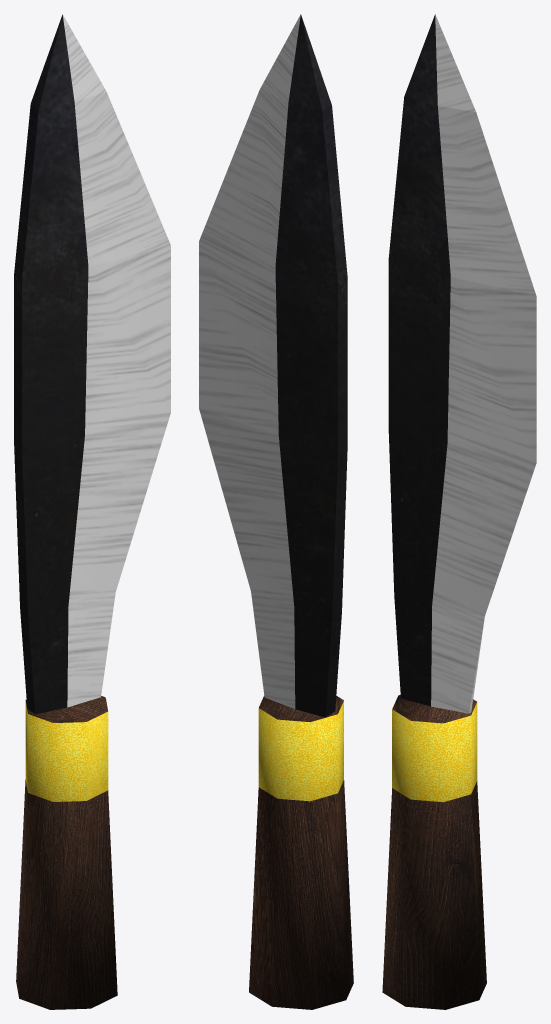
File: Knife.fbx
The picture shows the model from 3 angles, left to right: view 1: azimuth 30°, elevation 25°; view 2: azimuth 150°, elevation 25°; view 3: azimuth 330°, elevation 25°; orthographic projection.
Parts seen in each view (by area): view 1: Knife; view 2: Knife; view 3: Knife.
Part boxes in pixels (<box>): Knife: <box>14,14,170,1009</box>; Knife: <box>199,14,353,1009</box>; Knife: <box>382,14,536,1009</box>.
Bounding box in the file's own units: 4.83 × 2.99 × 30.07.
4 materials, 4 textured.
